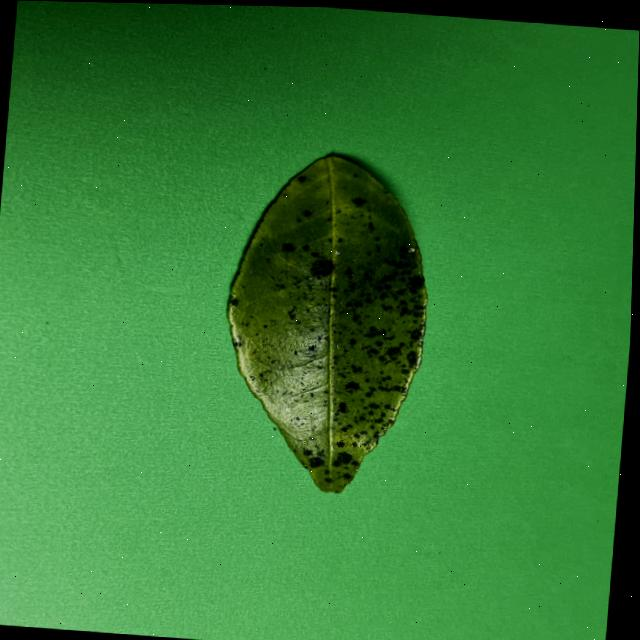sooty_mold: (227, 155, 426, 493)
